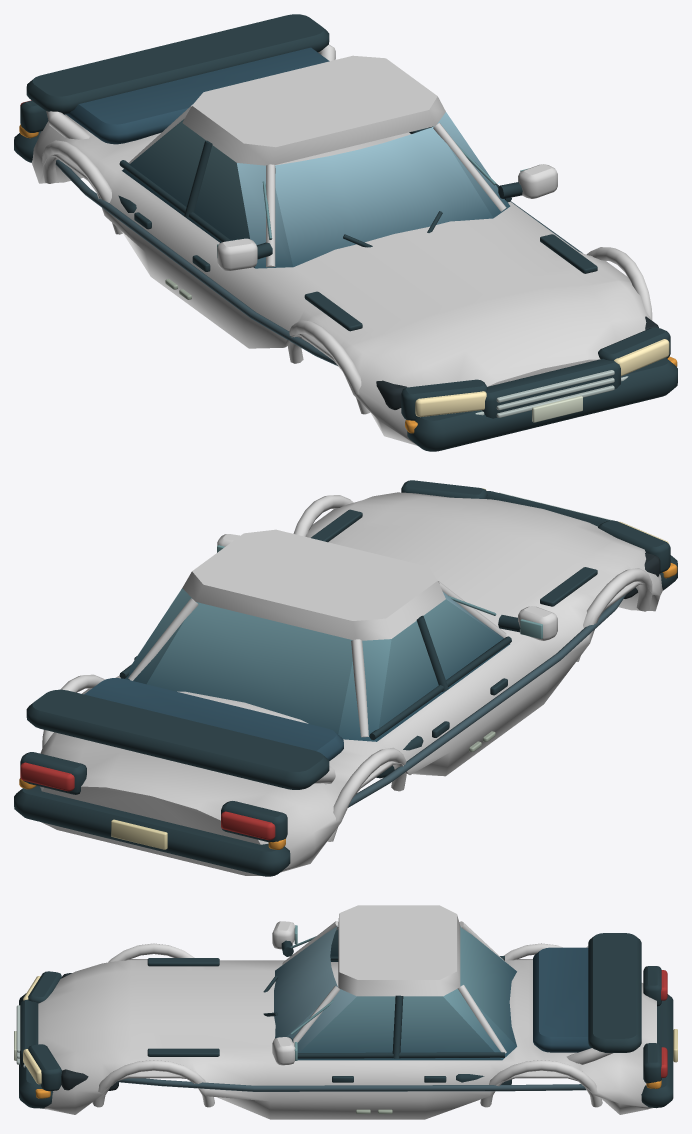
The model's file is arrow.glb.
The picture shows the model from 3 angles, top to bottom: view 1: azimuth 30°, elevation 25°; view 2: azimuth 150°, elevation 25°; view 3: azimuth 270°, elevation 25°; orthographic projection. The views are drawn at different scales.
Parts seen in each view (by area): view 1: Chassis, Headlamps; view 2: Chassis, BrakeLamps; view 3: Chassis, Headlamps, BrakeLamps.
Part boxes in pixels (bbox=[...]): Chassis: bbox=[14, 14, 677, 451]; Headlamps: bbox=[415, 339, 669, 417]; Chassis: bbox=[14, 480, 677, 876]; BrakeLamps: bbox=[20, 762, 275, 840]; Chassis: bbox=[14, 905, 677, 1119]; Headlamps: bbox=[23, 976, 41, 1084]; BrakeLamps: bbox=[661, 970, 667, 1077].
Bounding box in the file's own units: 1.96 × 0.8759 × 4.25.
